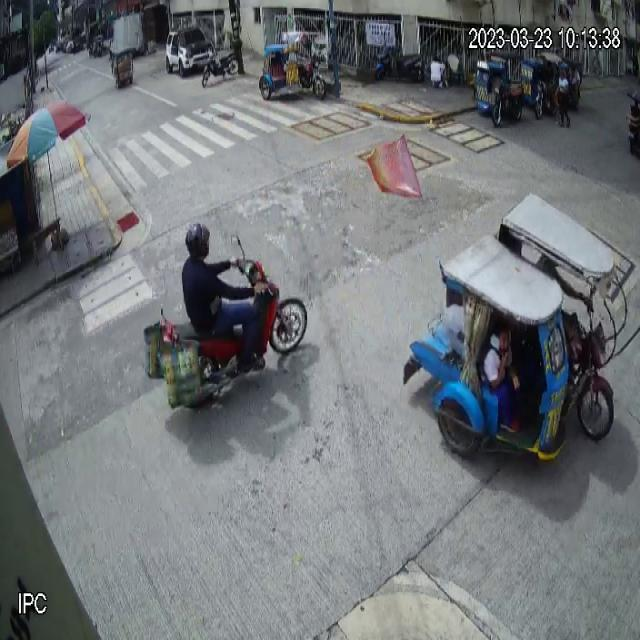Motorcycle: (161, 234, 307, 407)
Tricycle: (410, 193, 628, 460), (258, 30, 327, 104), (473, 52, 524, 129)
